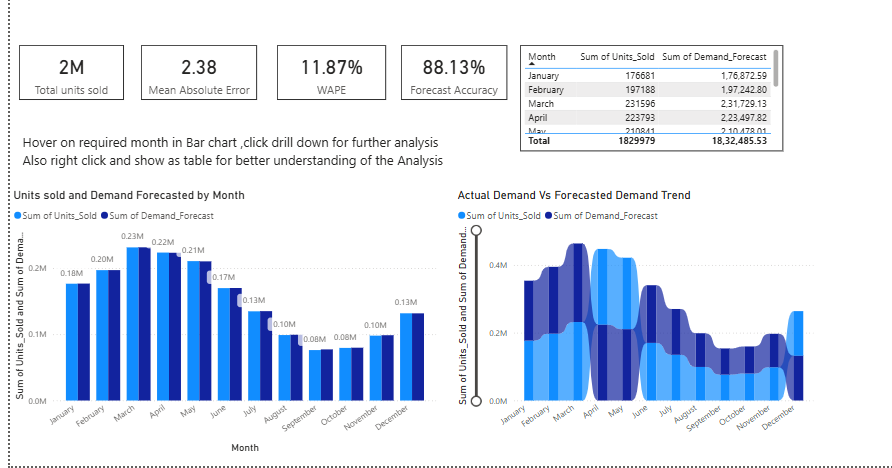

What the dashboard file says about the page in this screenshot:
{"tool":"powerbi","page":{"name":"Demand Analysis and Demand Accuracy ","canvas":[1280,720],"ordinal":4},"visuals":[{"type":"card","fields":{"Values":["Table 1.Total units sold"]},"box":[13,113.8,151.2,79.2],"z":0},{"type":"card","fields":{"Values":["Table 1.Mean Absolute Error"]},"box":[188.6,113.8,167,79.2],"z":1000},{"type":"card","fields":{"Values":["Table 1.WAPE"]},"box":[384.5,113.8,157,79.2],"z":2000},{"type":"lineClusteredColumnComboChart","title":"Units sold and Demand Forecasted by Month ","fields":{"Category":["Table 1.Date.Variation.Date Hierarchy.Month","Table 1.Date.Variation.Date Hierarchy.Day"],"Y":["Sum(Table 1.Units_Sold)","Sum(Table 1.Demand_Forecast)"]},"box":[0,319.7,619.2,387.4],"z":3000},{"type":"card","fields":{"Values":["Table 1.Forecast Error %"]},"box":[563,113.8,152.6,79.2],"z":4000},{"type":"tableEx","fields":{"Values":["Table 1.Date.Variation.Date Hierarchy.Month","Sum(Table 1.Units_Sold)","Sum(Table 1.Demand_Forecast)"]},"box":[734.4,113.8,378.7,152.6],"z":5000},{"type":"ribbonChart","title":"Actual Demand Vs Forecasted Demand Trend ","fields":{"Category":["Table 1.Date.Variation.Date Hierarchy.Month"],"Y":["Sum(Table 1.Units_Sold)","Sum(Table 1.Demand_Forecast)"]},"box":[639.4,319.7,522.7,387.4],"z":6000},{"type":"textbox","box":[13,236.2,646.6,64.8],"z":7000}]}

Visuals, with their boxes on the page's 1280x720 design canvas (x1, y1, x2, y2). These are canvas units, not pixel positions in the 892x468 screenshot, which may show the page scaled, cropped or inside an application window:
card - Table 1.Total units sold: rect(13, 114, 164, 193)
card - Table 1.Mean Absolute Error: rect(189, 114, 356, 193)
card - Table 1.WAPE: rect(384, 114, 542, 193)
"Units sold and Demand Forecasted by Month " lineClusteredColumnComboChart: rect(0, 320, 619, 707)
card - Table 1.Forecast Error %: rect(563, 114, 716, 193)
tableEx - Table 1.Date.Variation.Date Hierarchy.Month x Sum(Table 1.Units_Sold): rect(734, 114, 1113, 266)
"Actual Demand Vs Forecasted Demand Trend " ribbonChart: rect(639, 320, 1162, 707)
textbox: rect(13, 236, 660, 301)
